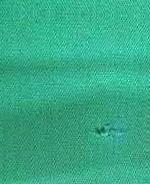knot: (89, 121, 123, 138)
